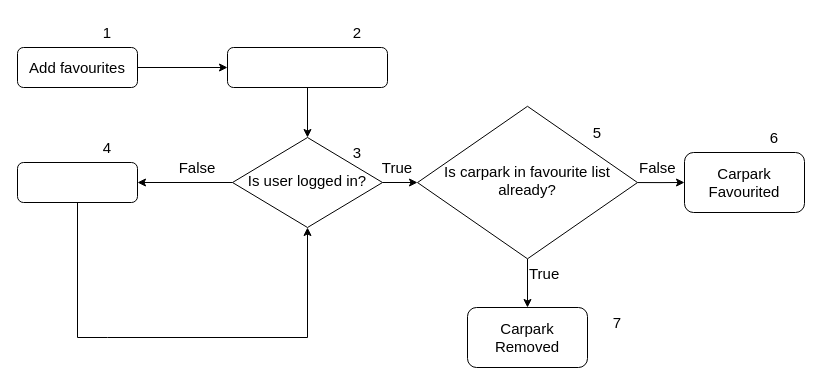
Image size: 822x385. Some labels were removed from this diagram. Each missing label, with the centre of its shape:
"Favourite button click" belongs at [307,67].
"Please login" belongs at [77,182].
